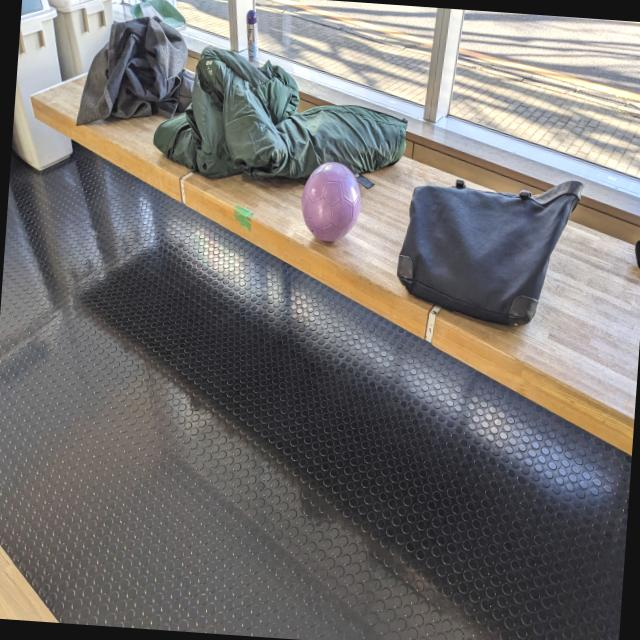purple_ball: (296, 160, 362, 240)
